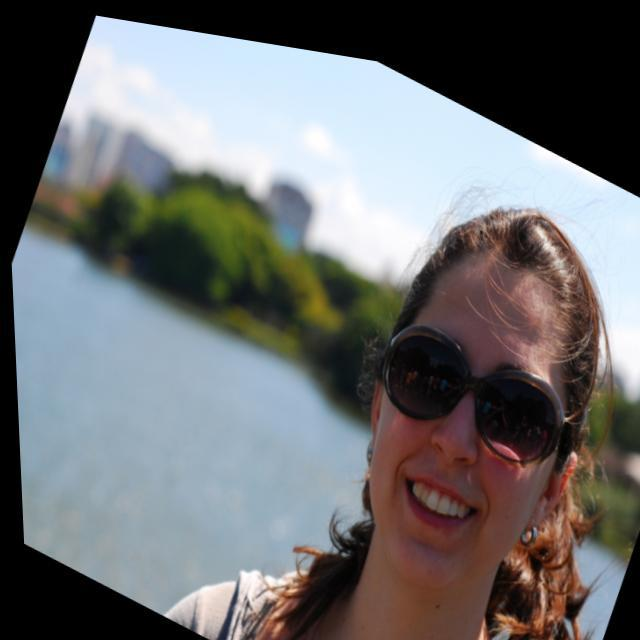Nonhelmet: (339, 200, 608, 610)
